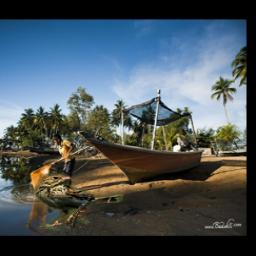Sparrow: (28, 173, 123, 231)
